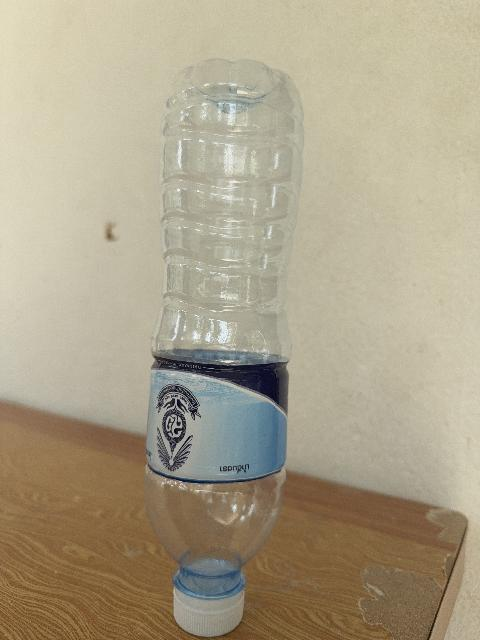bottle: (145, 60, 303, 636)
